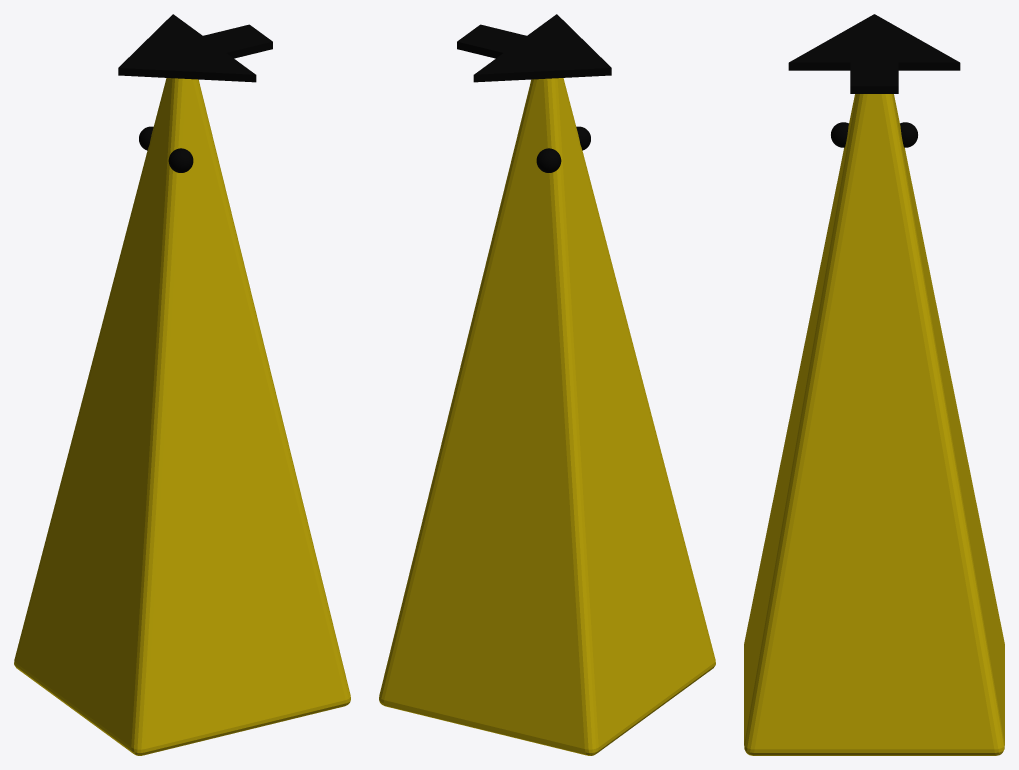
3 renders of one model, left to right at view 1: azimuth 30°, elevation 25°; view 2: azimuth 150°, elevation 25°; view 3: azimuth 270°, elevation 25°, orthographic. The views are drawn at different scales.
Visible parts, largest first — view 1: Cube.019_Cube.006_Material.003, Cube.019_Cube.006_SVGMat; view 2: Cube.019_Cube.006_Material.003, Cube.019_Cube.006_SVGMat; view 3: Cube.019_Cube.006_Material.003, Cube.019_Cube.006_SVGMat.
Part boxes in pixels (bbox=[...]): Cube.019_Cube.006_Material.003: bbox=[14, 78, 350, 755]; Cube.019_Cube.006_SVGMat: bbox=[118, 14, 272, 172]; Cube.019_Cube.006_Material.003: bbox=[379, 78, 715, 755]; Cube.019_Cube.006_SVGMat: bbox=[457, 14, 611, 172]; Cube.019_Cube.006_Material.003: bbox=[744, 94, 1004, 755]; Cube.019_Cube.006_SVGMat: bbox=[788, 14, 960, 147].
Bounding box in the file's own units: 0.1762 × 0.4901 × 0.1762.
